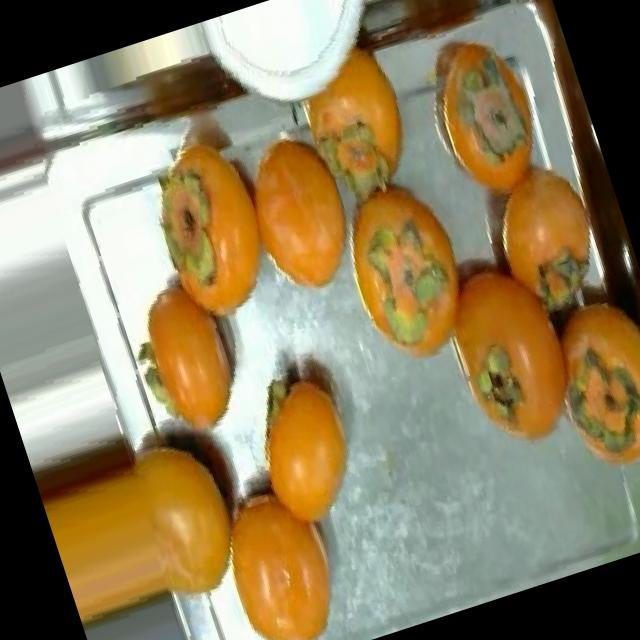Fruit: (306, 149, 510, 395), (208, 98, 375, 323), (217, 346, 393, 552), (271, 9, 442, 221), (122, 252, 274, 460), (203, 475, 368, 640)
